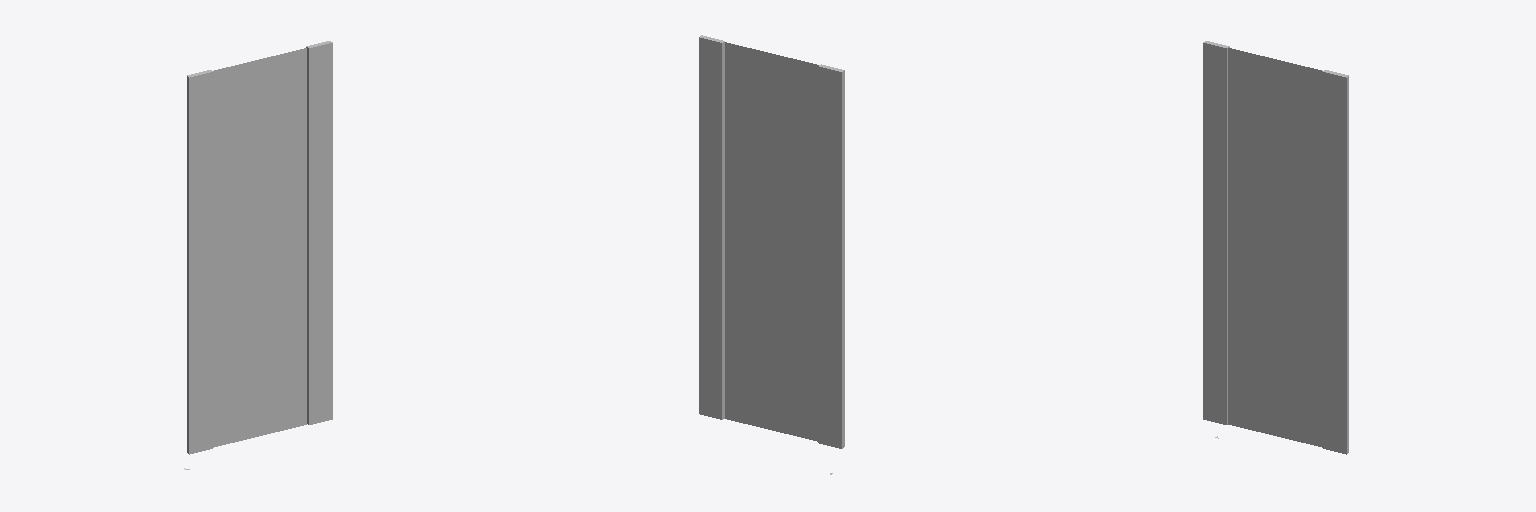
Rendered from 机柜5-门-自由染色.obj.
3 renders of one model, left to right at view 1: azimuth 30°, elevation 25°; view 2: azimuth 150°, elevation 25°; view 3: azimuth 330°, elevation 25°, orthographic.
Visible parts, largest first — view 1: Line069; view 2: Line069; view 3: Line069.
Part boxes in pixels (x1,y1,x2,y2): Line069: (184, 41, 332, 469); Line069: (699, 35, 844, 474); Line069: (1203, 41, 1348, 454).
Size of the model in its own units: 90 by 239 by 11.12.